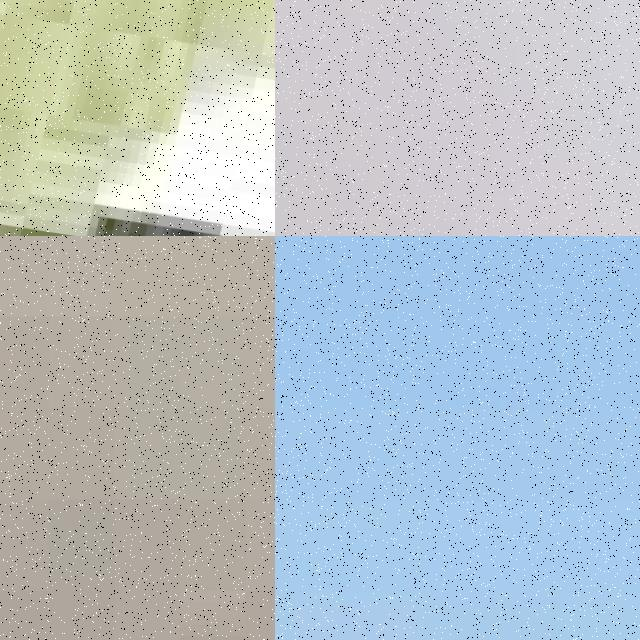drone: (0, 0, 275, 236)
